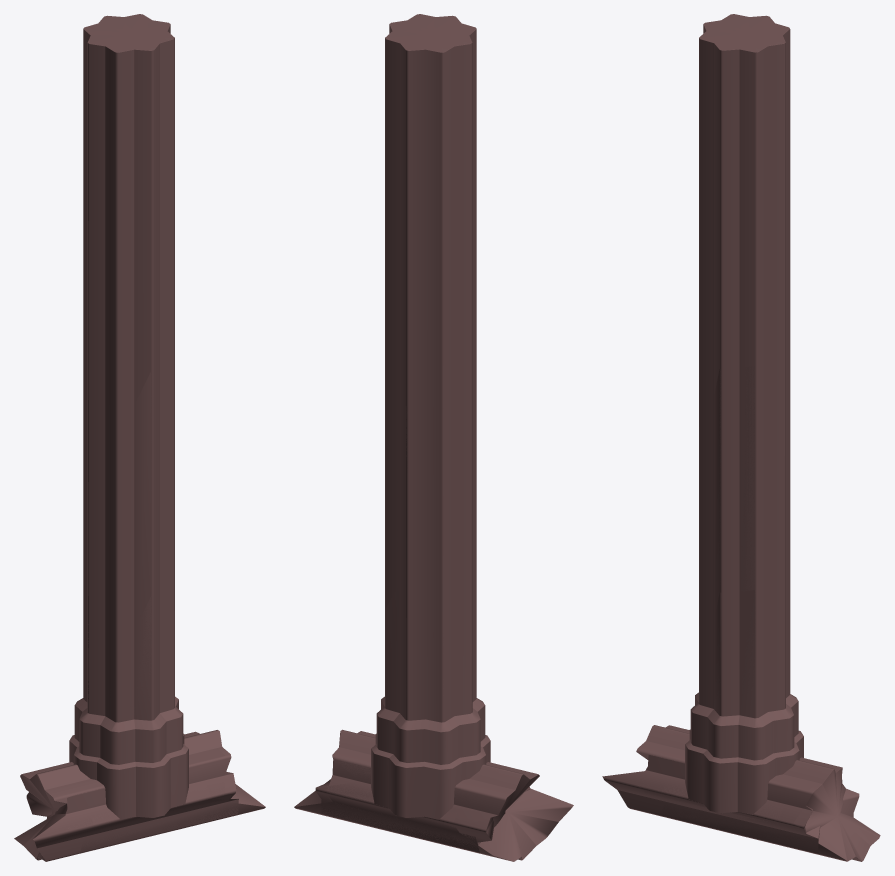
Rendered from Pillars.fbx.
3 views of the same model, side by side, from view 1: azimuth 30°, elevation 25°; view 2: azimuth 150°, elevation 25°; view 3: azimuth 330°, elevation 25° (orthographic).
Parts seen in each view (by area): view 1: pillar_full, pillar_cut_1, pillar_cut_2, pillar_frag_2, pillar_frag_1, pillar_frag_3; view 2: pillar_full, pillar_cut_1, pillar_cut_2, pillar_frag_2, pillar_frag_1, pillar_frag_3; view 3: pillar_full, pillar_cut_2, pillar_frag_2, pillar_frag_1, pillar_cut_1, pillar_frag_3.
Boxes of the visible parts, x1,y1,x2,y2 form: pillar_full: [75, 14, 188, 819]; pillar_cut_1: [83, 357, 173, 721]; pillar_cut_2: [69, 584, 186, 819]; pillar_frag_2: [14, 730, 265, 861]; pillar_frag_1: [20, 732, 238, 853]; pillar_frag_3: [26, 765, 236, 840]; pillar_full: [371, 14, 484, 817]; pillar_cut_1: [386, 383, 476, 721]; pillar_cut_2: [374, 584, 490, 819]; pillar_frag_2: [294, 729, 573, 861]; pillar_frag_1: [315, 732, 539, 852]; pillar_frag_3: [324, 764, 530, 842]; pillar_full: [688, 14, 803, 814]; pillar_cut_2: [685, 590, 800, 814]; pillar_frag_2: [602, 755, 880, 861]; pillar_frag_1: [636, 725, 859, 853]; pillar_cut_1: [699, 366, 785, 717]; pillar_frag_3: [638, 729, 812, 840].
Size of the model in its own units: 454 by 1456 by 198.
